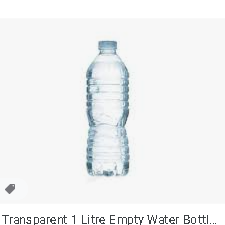Bottle: (87, 40, 131, 176)
